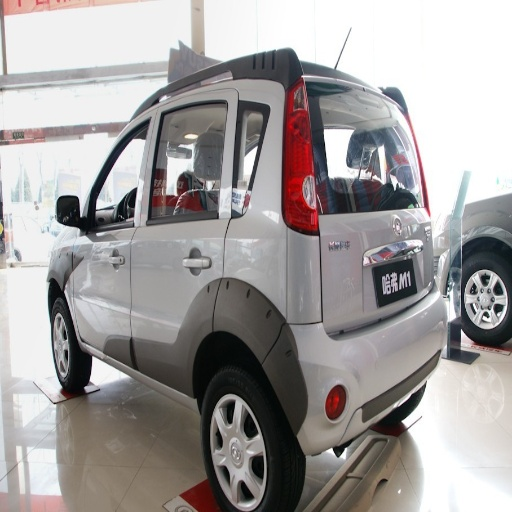back_bumper: (297, 305, 442, 445)
back_left_door: (131, 94, 235, 386)
tailgate: (345, 100, 406, 171)
trunk: (310, 110, 510, 330)
